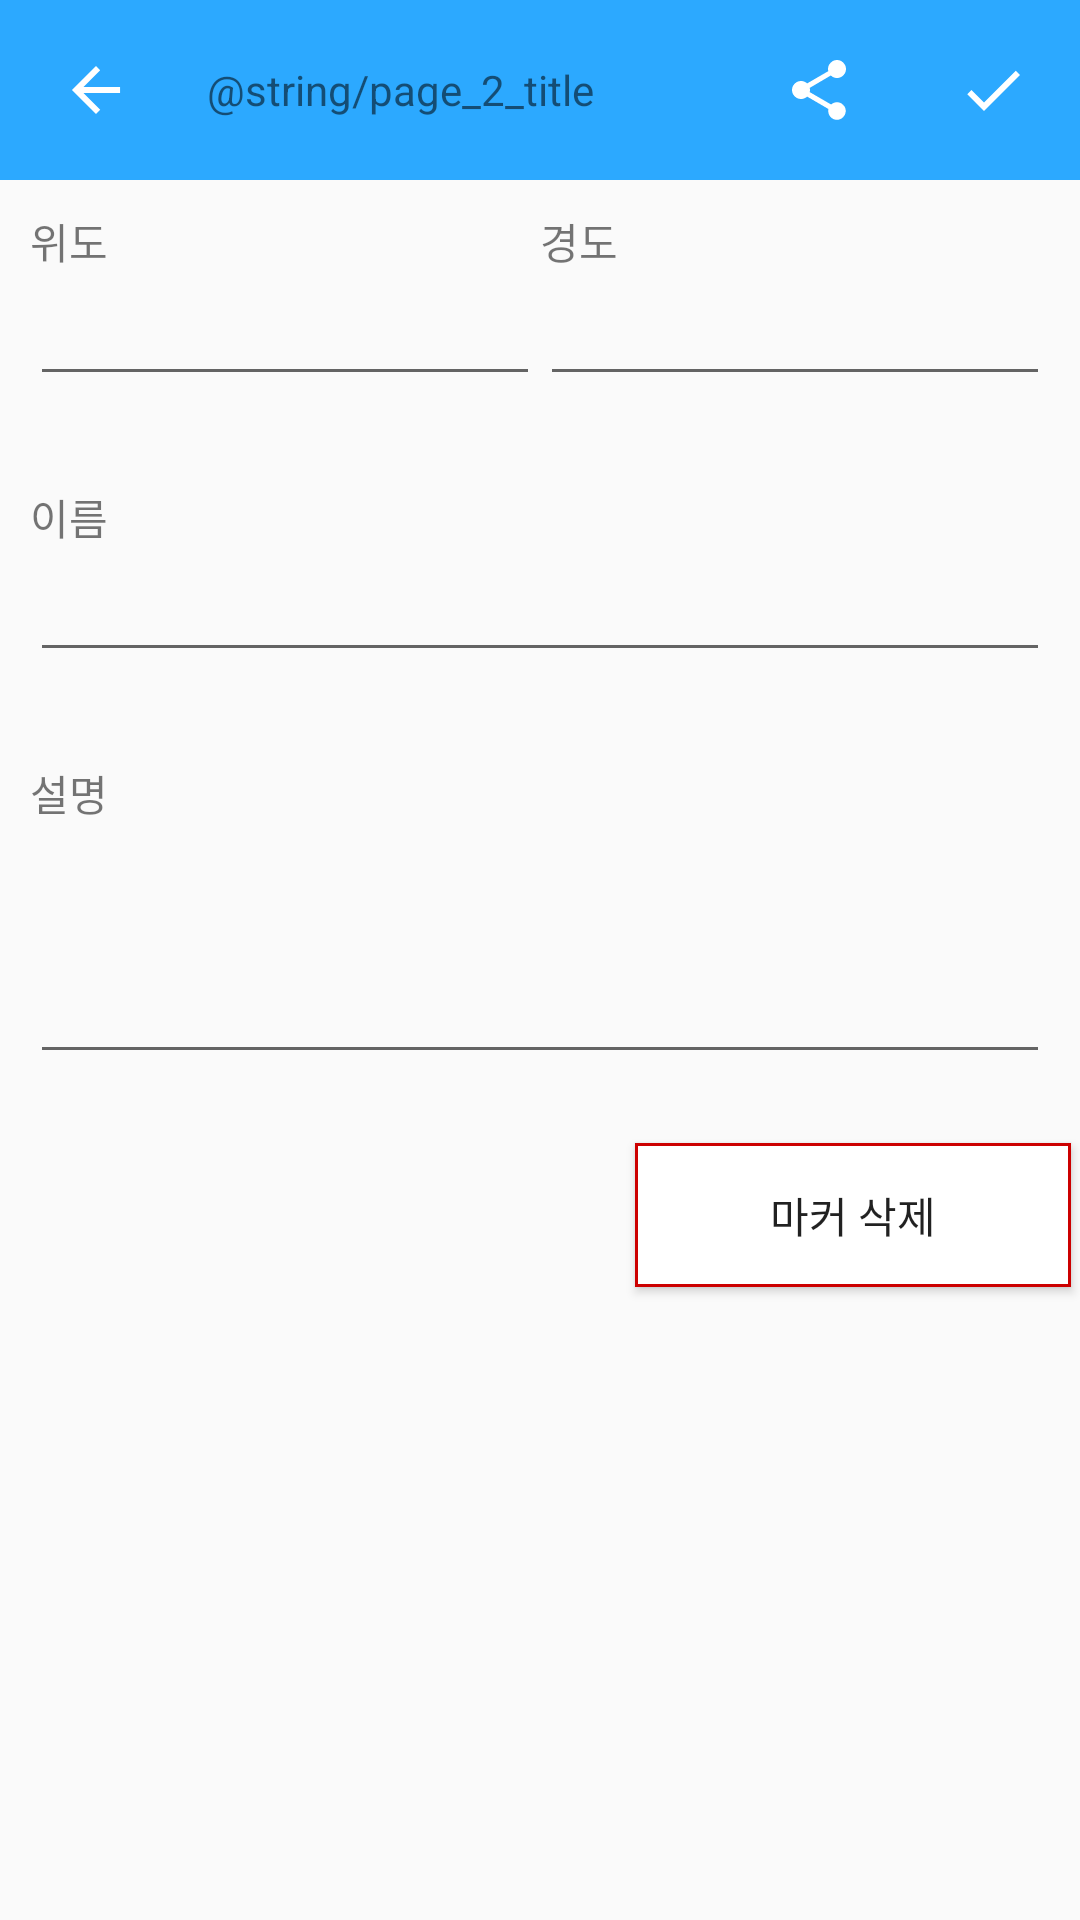

Where to tap for icons on this 1080 × 1920 app screen, as (x,y):
arrow back: (96,90)
check: (993,91)
share: (819,90)
